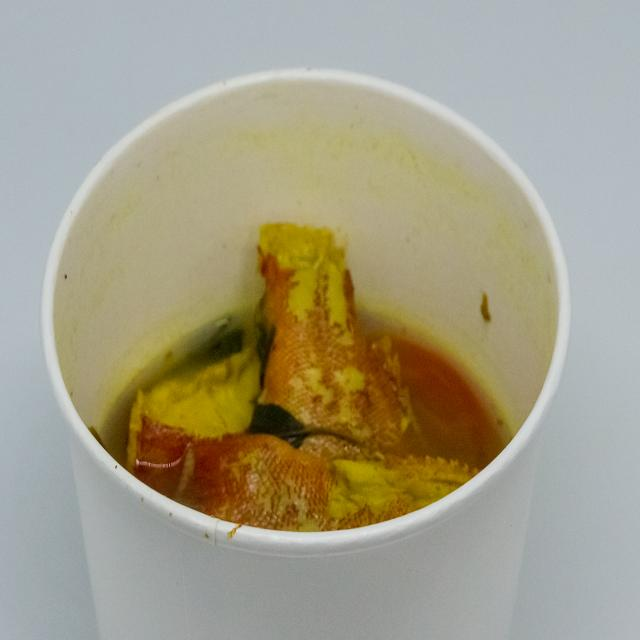Gulai-Ikan-Mas: (87, 205, 496, 541)
